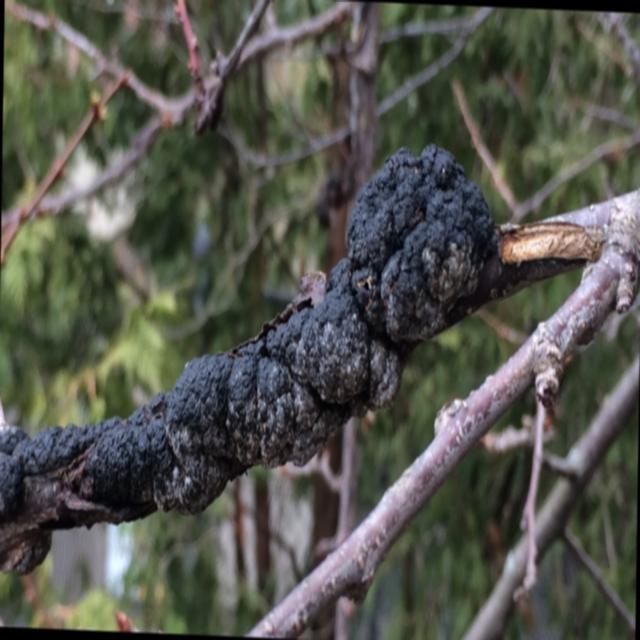Black_knot: (1, 139, 499, 573), (344, 140, 496, 345)
